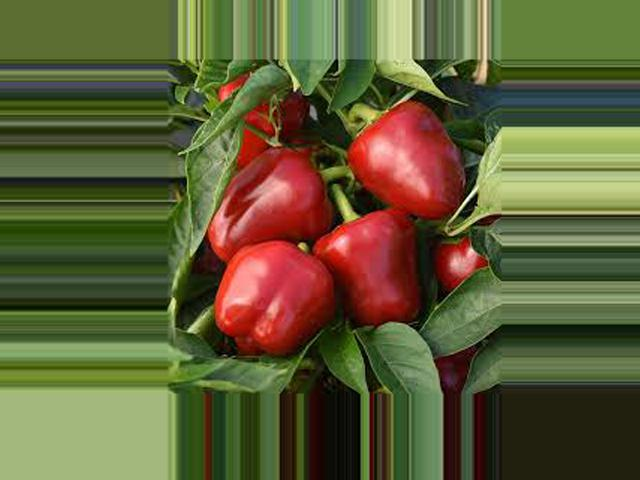bell_pepper: (202, 238, 361, 352)
